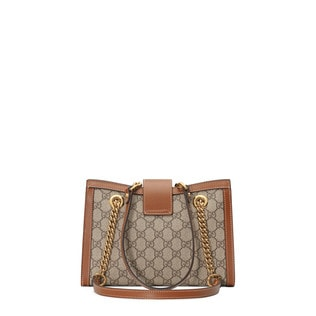Gucci: (63, 161, 249, 307), (146, 223, 188, 276)
